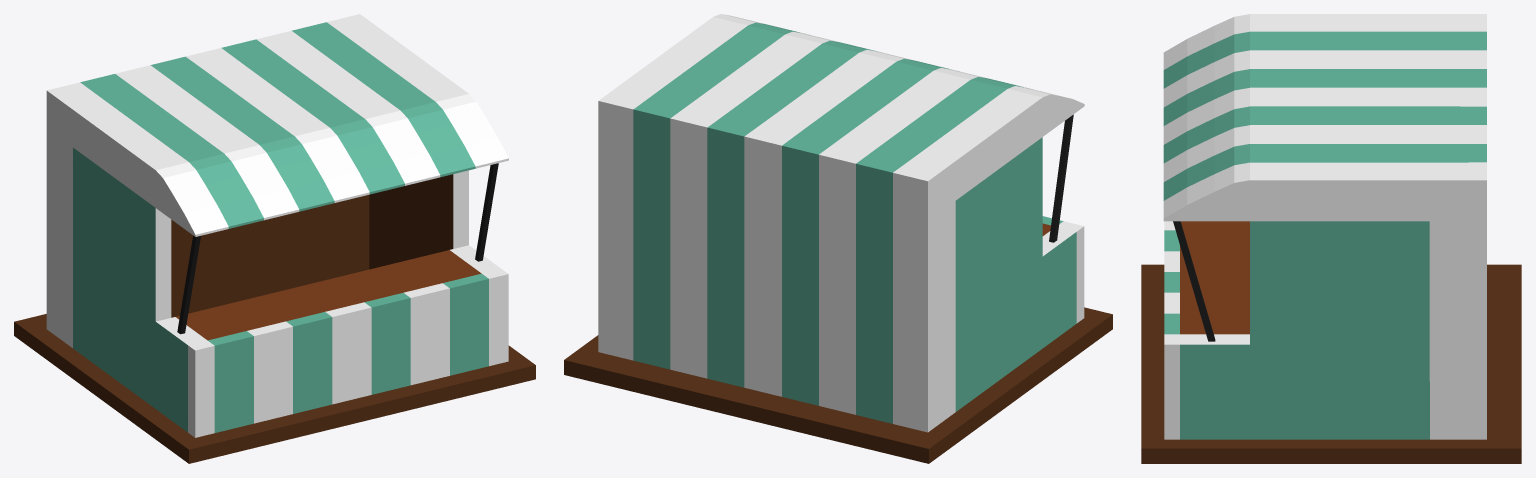
The model's file is venda.fbx.
The picture shows the model from 3 angles, left to right: view 1: azimuth 30°, elevation 25°; view 2: azimuth 150°, elevation 25°; view 3: azimuth 270°, elevation 25°; orthographic projection. The views are drawn at different scales.
Parts seen in each view (by area): view 1: Venda; view 2: Venda; view 3: Venda.
Part boxes in pixels (x1=…): Venda: x1=14, y1=14, x2=535, y2=463; Venda: x1=564, y1=14, x2=1112, y2=463; Venda: x1=1141, y1=14, x2=1521, y2=463.
Bounding box in the file's own units: 2242 × 1563 × 1959.
